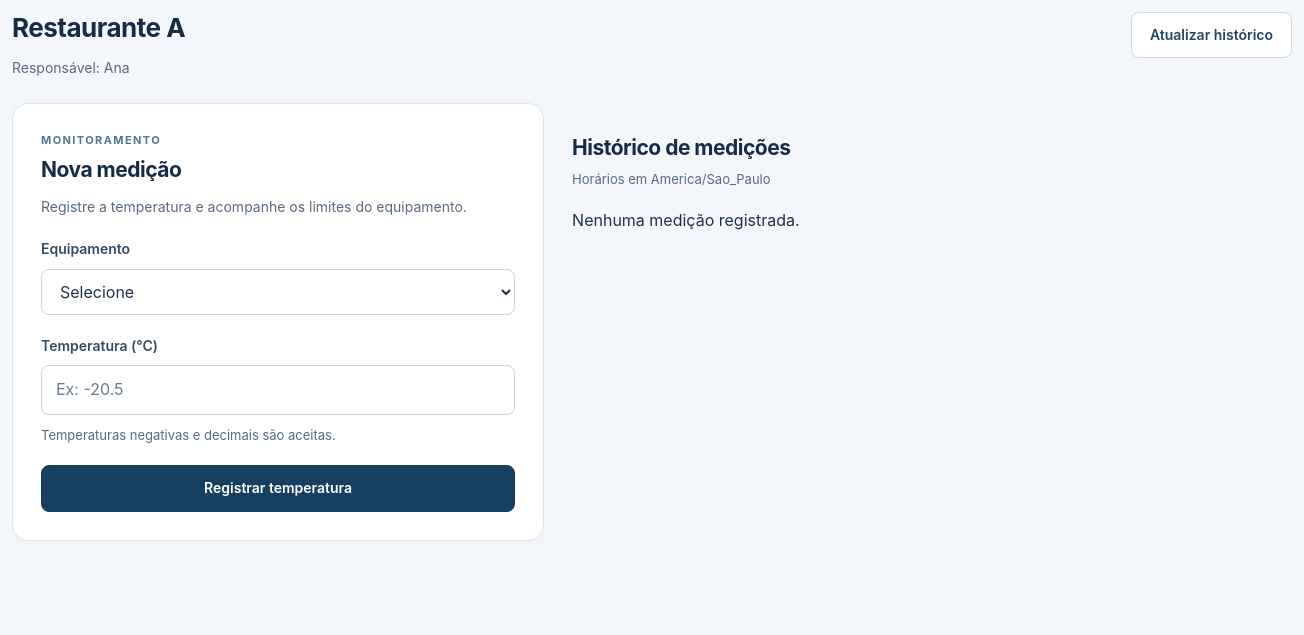
medições compartilhadas › registra -26 e exibe status alerta retornado pelo banco
This screenshot has width=1304, height=635.
Check: the heading "Restaurante A" is shown, box 12,12 -> 185,43
Select "Freezer A" in the dropdown labelled "Equipamento" at (278, 292), box 41,268 -> 515,314
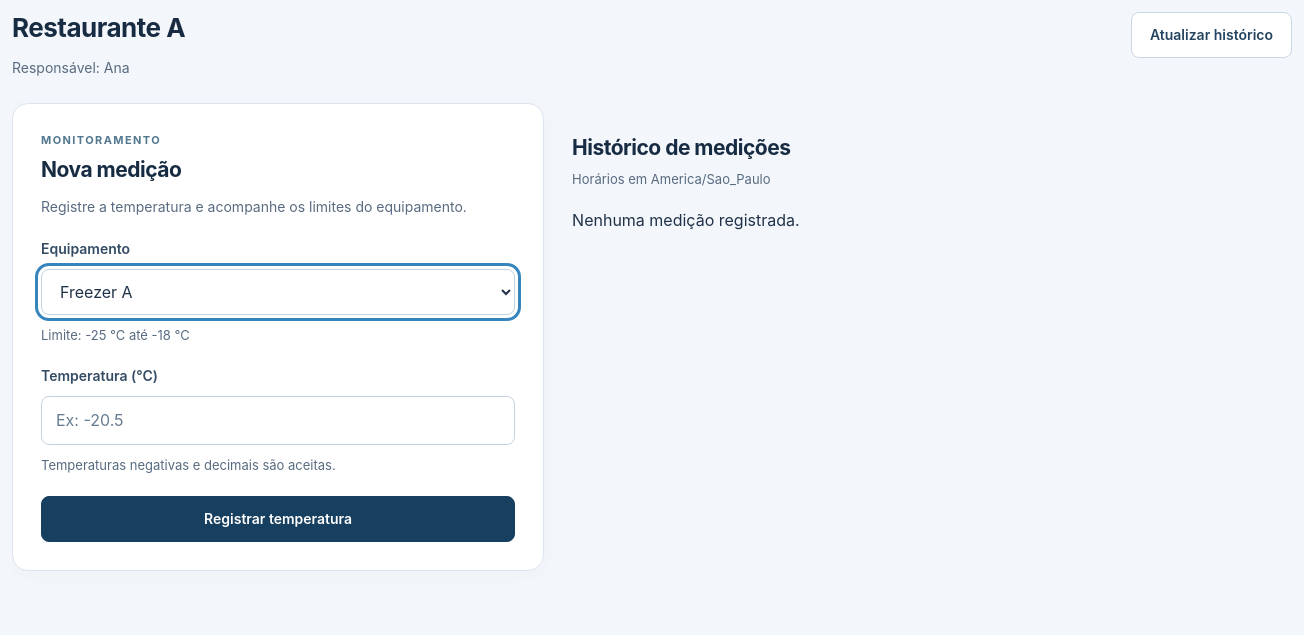
Type "-26" into the number field labelled "Temperatura (°C)" at (278, 420), box 41,396 -> 515,445
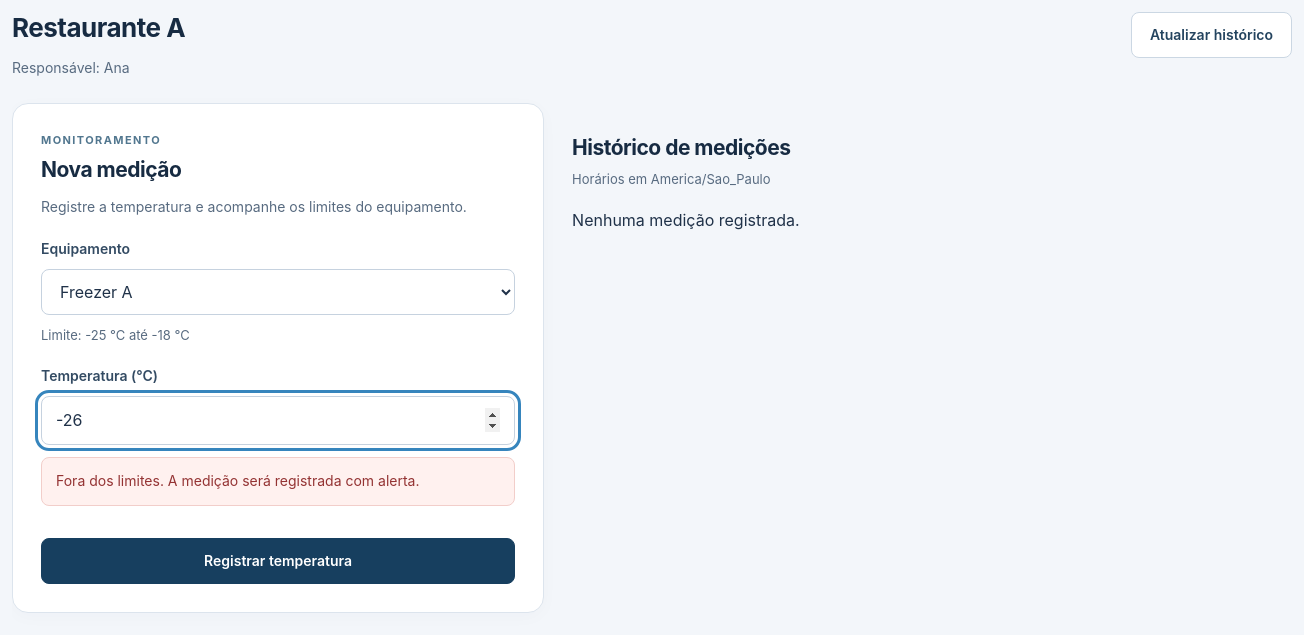
Check: the text "Fora dos limites. A medição será registrada com alerta." is shown, box 41,457 -> 515,506
Click the button "Registrar temperatura" at (278, 561), box 41,538 -> 515,584
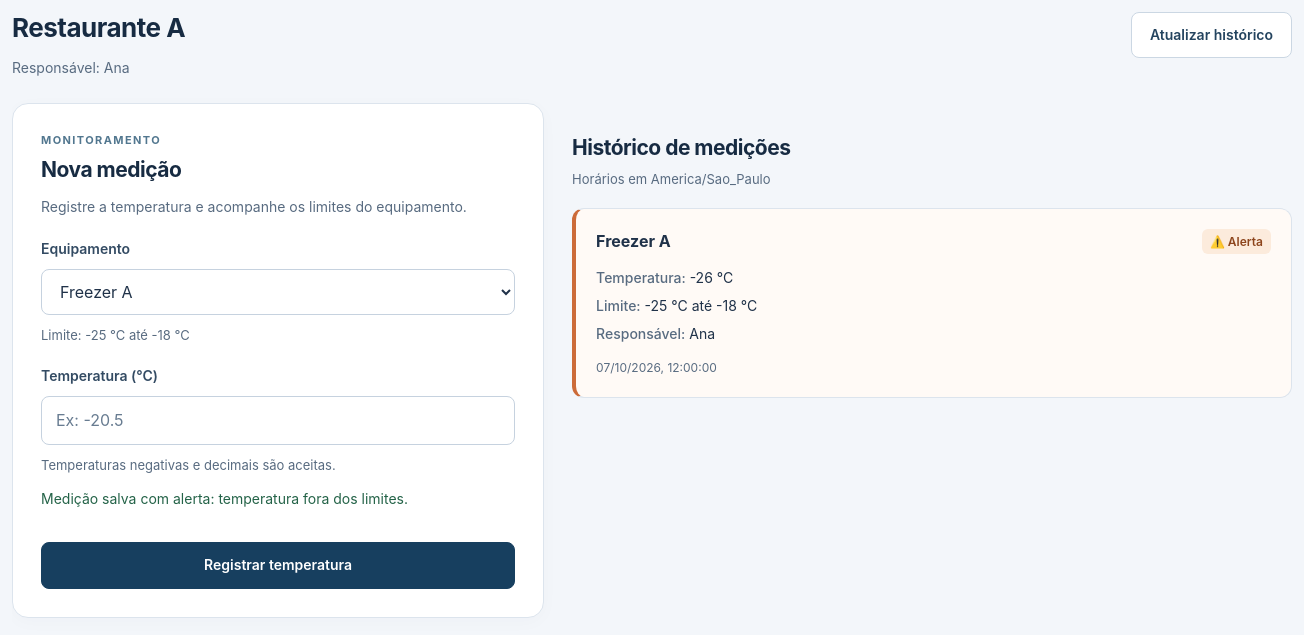
Check: the element that starts with "Freezer A" shows "-26 °C", box 572,208 -> 1292,398
Check: the element that starts with "Freezer A" shows "Alerta", box 1210,234 -> 1263,249
Check: the element that starts with "Freezer A" shows "Responsável: Ana", box 572,208 -> 1292,398
